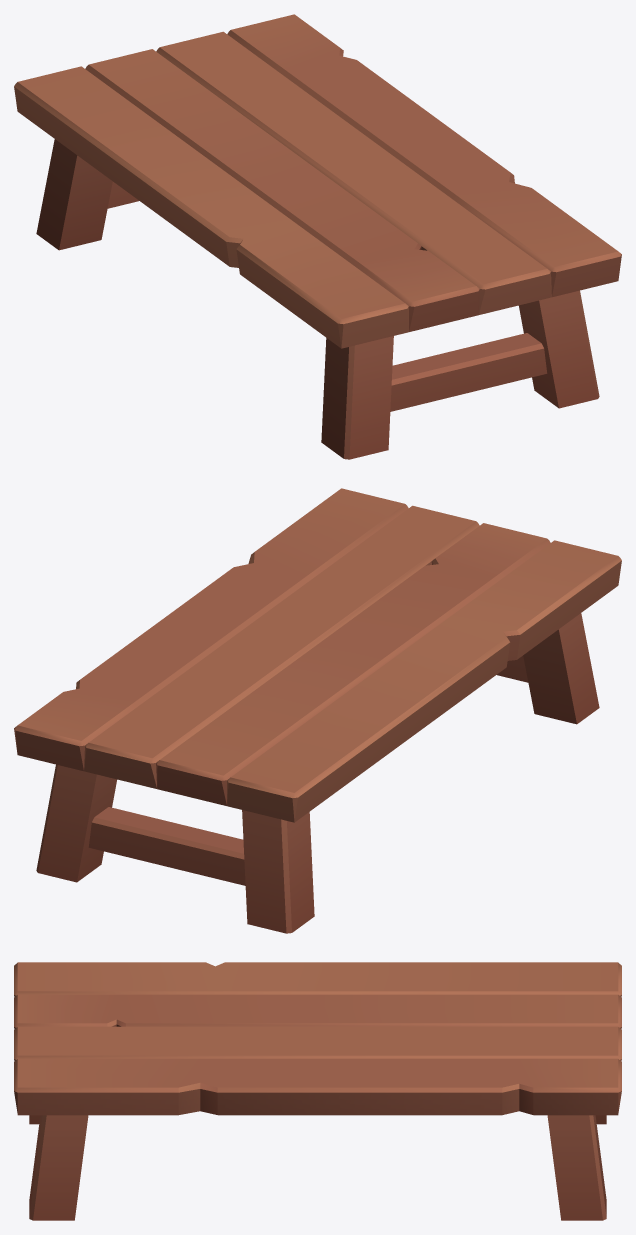
The model's file is table_long.gltf.
3 renders of one model, top to bottom at view 1: azimuth 30°, elevation 25°; view 2: azimuth 150°, elevation 25°; view 3: azimuth 270°, elevation 25°, orthographic. The views are drawn at different scales.
Parts seen in each view (by area): view 1: table_long; view 2: table_long; view 3: table_long.
Boxes of the visible parts, x1,y1,x2,y2 form: table_long: [14, 14, 621, 459]; table_long: [14, 488, 621, 933]; table_long: [14, 962, 621, 1220].
Bounding box in the file's own units: 2 × 1 × 4.
Materials: 1 (1 with a texture image).
